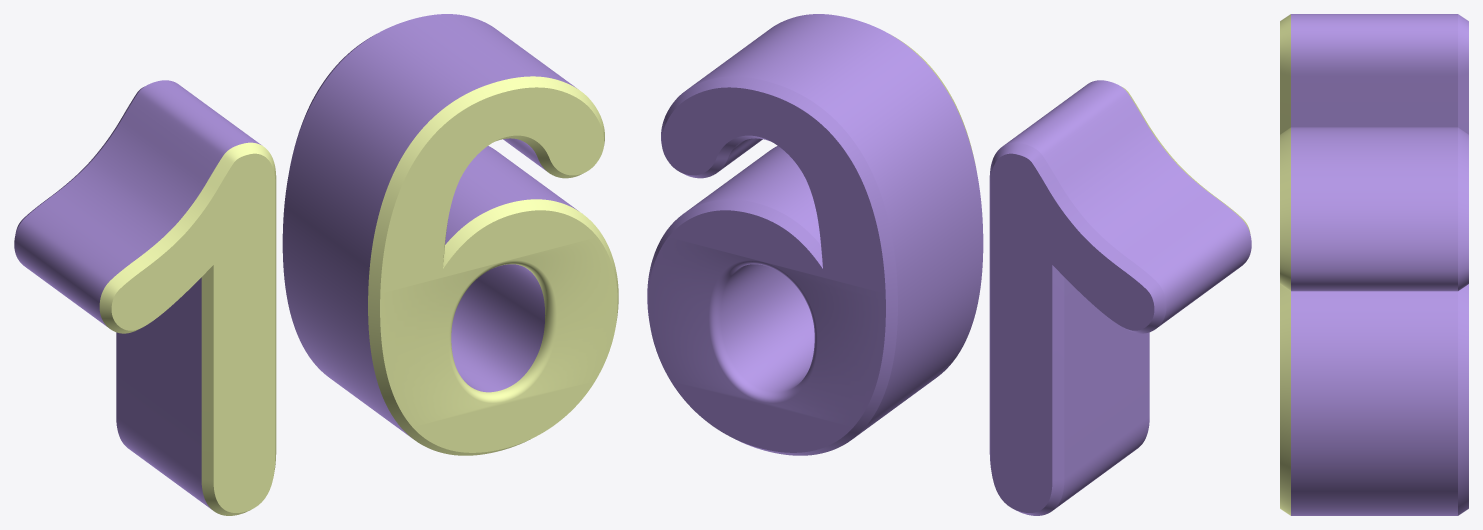
3 renders of one model, left to right at view 1: azimuth 30°, elevation 25°; view 2: azimuth 150°, elevation 25°; view 3: azimuth 270°, elevation 25°, orthographic. The views are drawn at different scales.
Visible parts, largest first — view 1: Text.017; view 2: Text.017; view 3: Text.017.
Part boxes in pixels (bbox=[...]): Text.017: bbox=[14, 14, 618, 515]; Text.017: bbox=[647, 14, 1251, 515]; Text.017: bbox=[1280, 14, 1468, 515].
Size of the model in its own units: 241 by 164 by 77.6.
